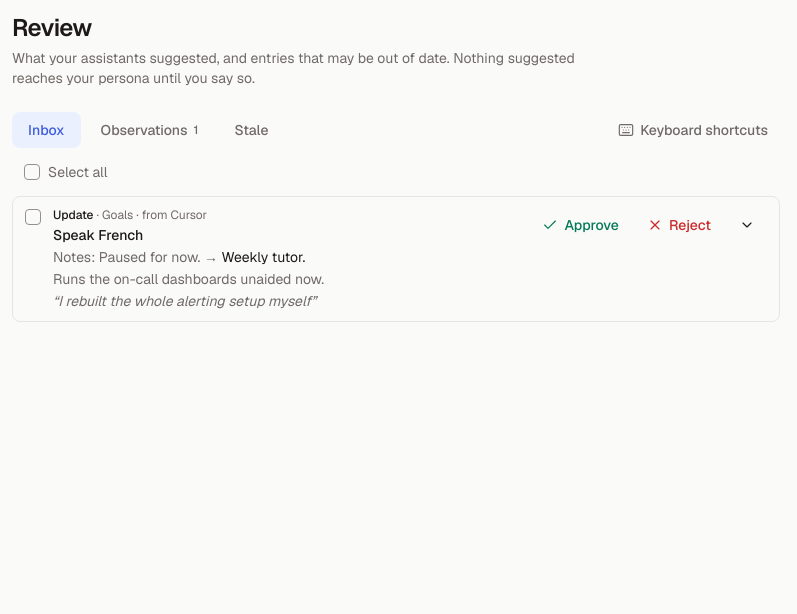
Test case: ProposalsPanel › shows what an update replaces, rather than an arrow that reads like a rename
Expected: the text "Speak French" is shown, [53,226,143,244]
Click the button named "details for ". click: (747, 225)
box: [727,207,767,243]
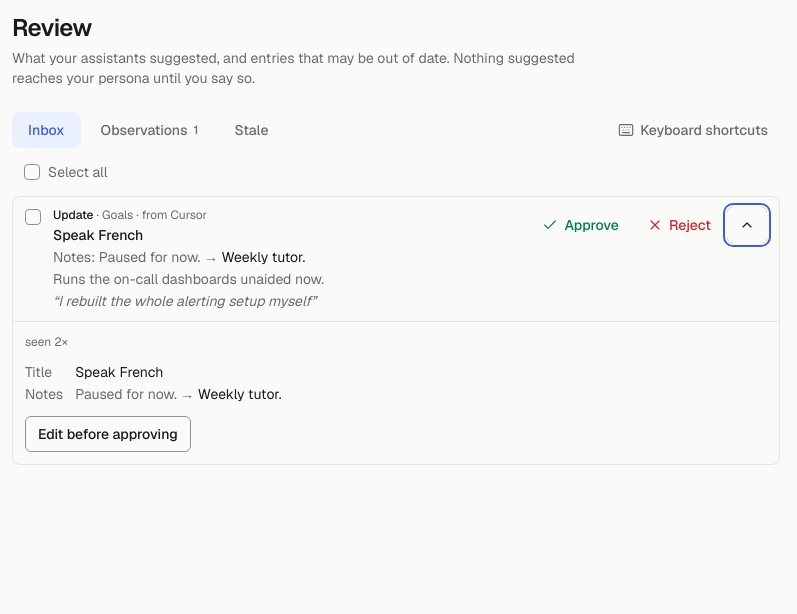
Expected: the text "Paused for now." is shown 2 times, [99,248,200,266]; [75,385,177,403]
Click the button "Edit before approving". click: (108, 434)
box: [25,416,191,452]
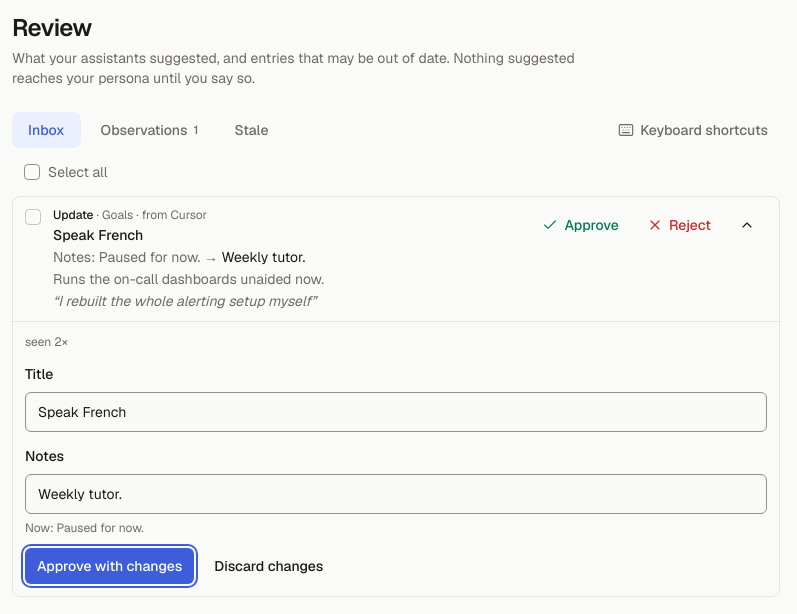
Expected: the text "Now: Paused for now." is shown, [25,520,144,536]
